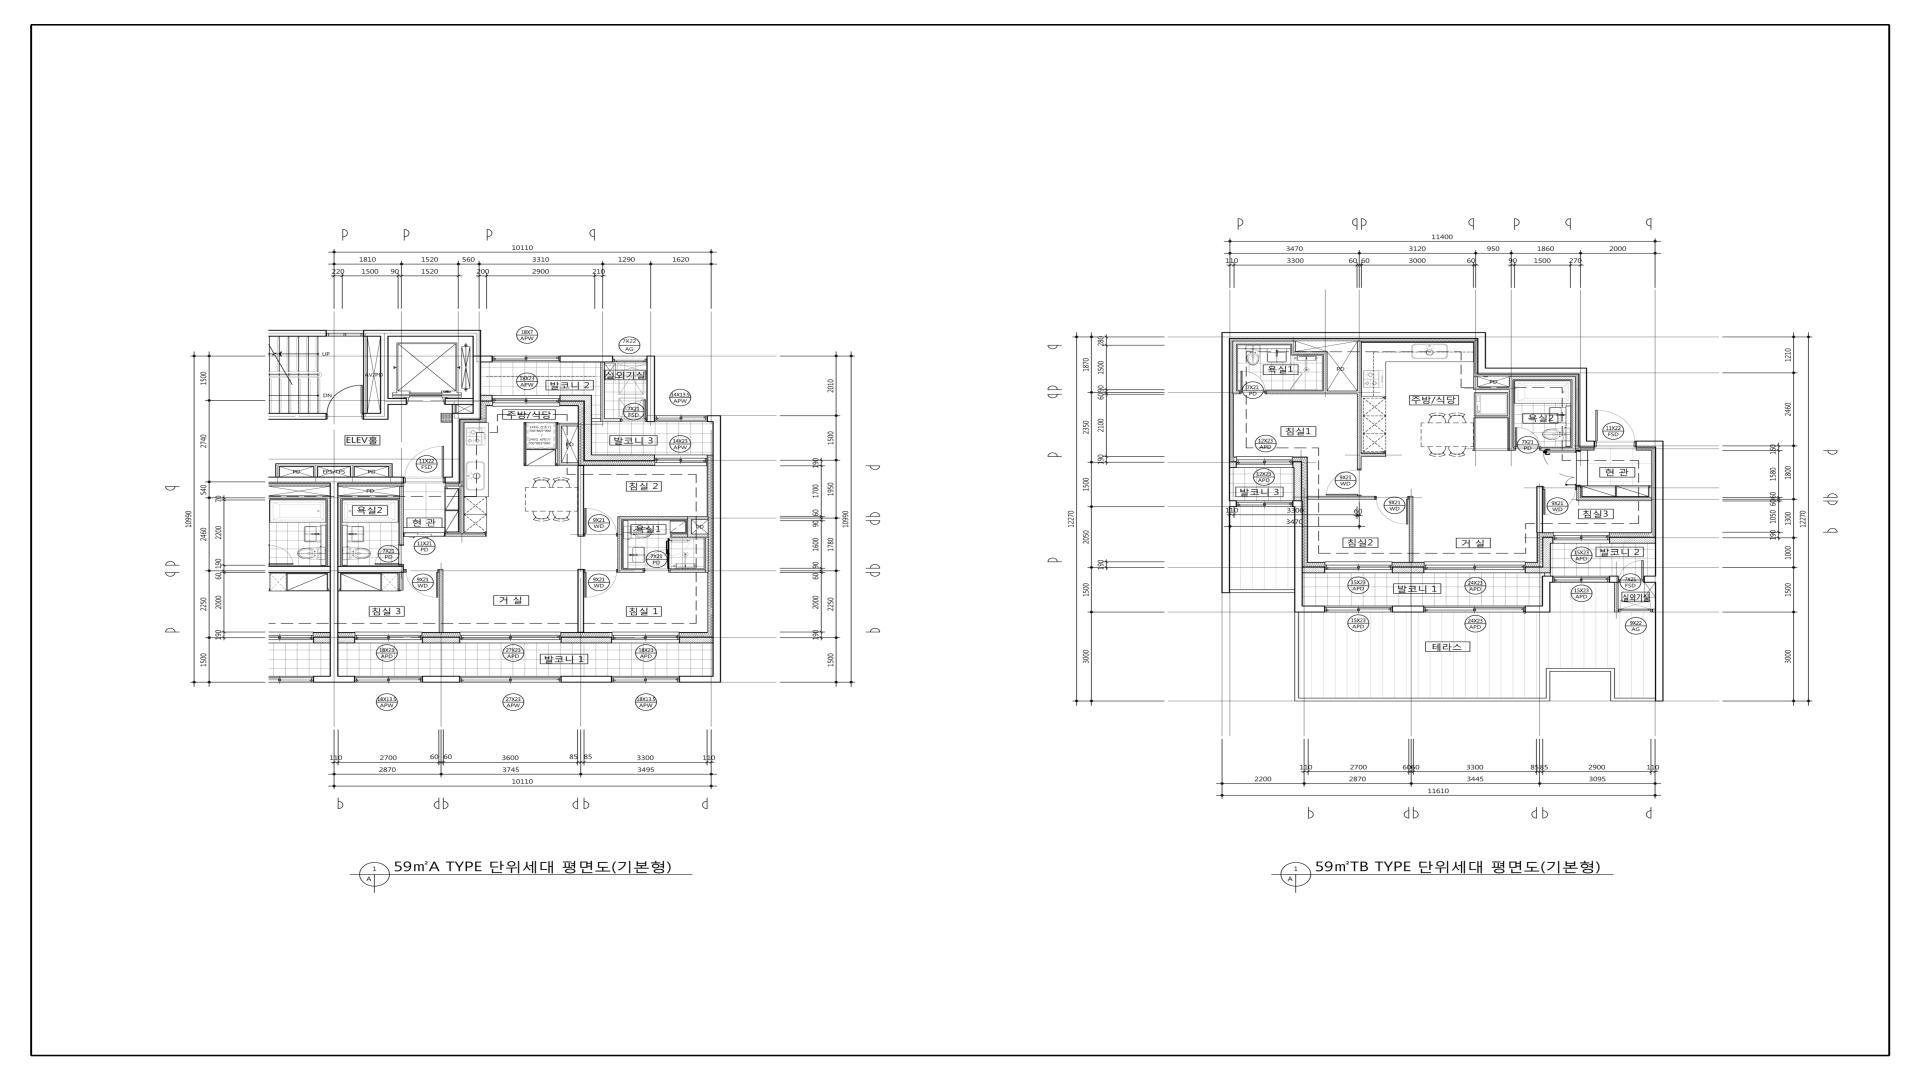door: (404, 445, 444, 483), (1595, 410, 1635, 447), (1542, 451, 1581, 486), (326, 385, 363, 420), (403, 569, 439, 597), (584, 508, 618, 537), (1326, 469, 1362, 496), (1543, 486, 1576, 515), (1375, 496, 1409, 524), (584, 569, 618, 597), (374, 544, 404, 566), (1514, 427, 1541, 451), (1239, 371, 1266, 394), (643, 550, 670, 573), (620, 399, 646, 422), (1619, 560, 1644, 582), (1290, 371, 1303, 390), (403, 533, 445, 537)
wall: (707, 415, 721, 676), (1230, 332, 1486, 339), (330, 483, 338, 676), (1655, 441, 1664, 612), (1221, 332, 1230, 500), (1293, 500, 1303, 613), (268, 477, 404, 484), (363, 330, 473, 337), (380, 336, 389, 413), (473, 330, 481, 413), (1486, 368, 1587, 374), (1579, 375, 1587, 448), (647, 356, 655, 422), (1357, 341, 1361, 469), (584, 454, 655, 461), (275, 463, 392, 467), (452, 419, 460, 477), (338, 566, 403, 573), (578, 466, 584, 537), (584, 401, 592, 454), (268, 330, 327, 337), (268, 413, 326, 420), (363, 336, 368, 413), (578, 569, 584, 632), (1509, 376, 1514, 451), (617, 516, 709, 520), (1543, 537, 1553, 573), (561, 676, 612, 683), (1293, 461, 1302, 500), (1536, 486, 1543, 533), (1609, 537, 1655, 544), (560, 356, 613, 362), (1477, 339, 1486, 374), (561, 637, 612, 643), (679, 676, 721, 683), (399, 486, 404, 544), (1572, 380, 1576, 450), (600, 362, 605, 418), (1266, 391, 1357, 394), (422, 676, 460, 683), (1409, 496, 1413, 562), (439, 569, 443, 633), (1513, 376, 1576, 380), (1542, 583, 1550, 613), (422, 637, 460, 643), (1577, 498, 1652, 501), (1392, 606, 1424, 613), (338, 496, 341, 566), (1307, 496, 1375, 499), (679, 637, 713, 643), (1233, 341, 1237, 391), (618, 520, 622, 569), (1392, 567, 1424, 573), (560, 395, 592, 401), (445, 398, 472, 405), (460, 486, 464, 533), (363, 413, 389, 420), (1237, 341, 1296, 344), (330, 676, 355, 683), (341, 496, 399, 499), (452, 413, 481, 419), (1323, 355, 1327, 391), (558, 426, 562, 462), (670, 569, 705, 573), (1303, 606, 1325, 612), (1303, 567, 1325, 573), (388, 398, 406, 405), (1541, 447, 1572, 451), (1296, 351, 1327, 355), (445, 533, 486, 536), (1525, 606, 1542, 613), (1614, 583, 1618, 612), (1636, 441, 1655, 447), (1221, 500, 1237, 507), (672, 534, 708, 537), (705, 537, 708, 573), (618, 569, 644, 573), (1525, 567, 1542, 573), (338, 637, 355, 643), (1361, 453, 1386, 457), (1478, 387, 1509, 390), (445, 477, 460, 483), (558, 462, 578, 466), (600, 418, 620, 422), (1542, 576, 1553, 583), (1644, 576, 1655, 583), (399, 573, 403, 591), (481, 356, 493, 362), (481, 395, 493, 401), (1609, 576, 1619, 583), (1473, 376, 1478, 390), (687, 520, 692, 534), (558, 423, 578, 426), (275, 467, 280, 477), (313, 467, 318, 477), (350, 467, 355, 477), (388, 467, 393, 477), (1577, 486, 1581, 498), (1587, 441, 1595, 447), (1292, 344, 1296, 355), (1230, 461, 1236, 468), (452, 405, 456, 413), (1544, 573, 1551, 576), (1233, 391, 1239, 394), (1290, 355, 1291, 371)
window: (1424, 562, 1525, 573), (460, 632, 561, 643), (611, 632, 679, 643), (1325, 562, 1392, 573), (355, 632, 422, 643), (492, 395, 559, 406), (1236, 456, 1293, 468), (1553, 532, 1609, 544), (1424, 606, 1525, 612), (460, 676, 560, 682), (655, 455, 708, 466), (612, 676, 679, 683), (1325, 606, 1392, 612), (355, 676, 422, 682), (493, 356, 560, 362), (1553, 576, 1609, 582), (1237, 501, 1293, 507), (655, 416, 707, 422), (327, 330, 363, 336), (613, 356, 646, 362), (1618, 609, 1655, 612)
